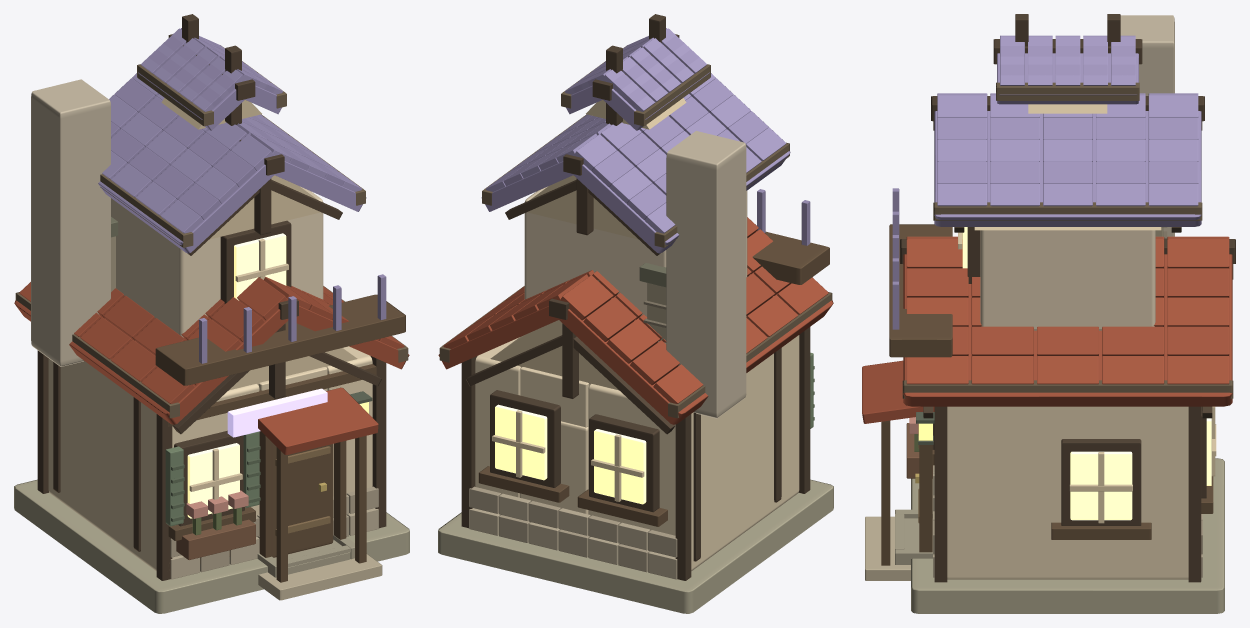
File: workshop-3-0.glb
The picture shows the model from 3 angles, left to right: view 1: azimuth 30°, elevation 25°; view 2: azimuth 150°, elevation 25°; view 3: azimuth 270°, elevation 25°; orthographic projection. The views are drawn at different scales.
Visible parts, largest first — view 1: workshop-0-3, door-hinge; view 2: workshop-0-3; view 3: workshop-0-3.
Part boxes in pixels (box(x1,y1,x2,y2)): workshop-0-3: box(14, 14, 409, 613); door-hinge: box(271, 442, 333, 557); workshop-0-3: box(438, 14, 833, 613); workshop-0-3: box(862, 14, 1235, 613).
Size of the model in its own units: 1.91 by 3.51 by 2.24.
